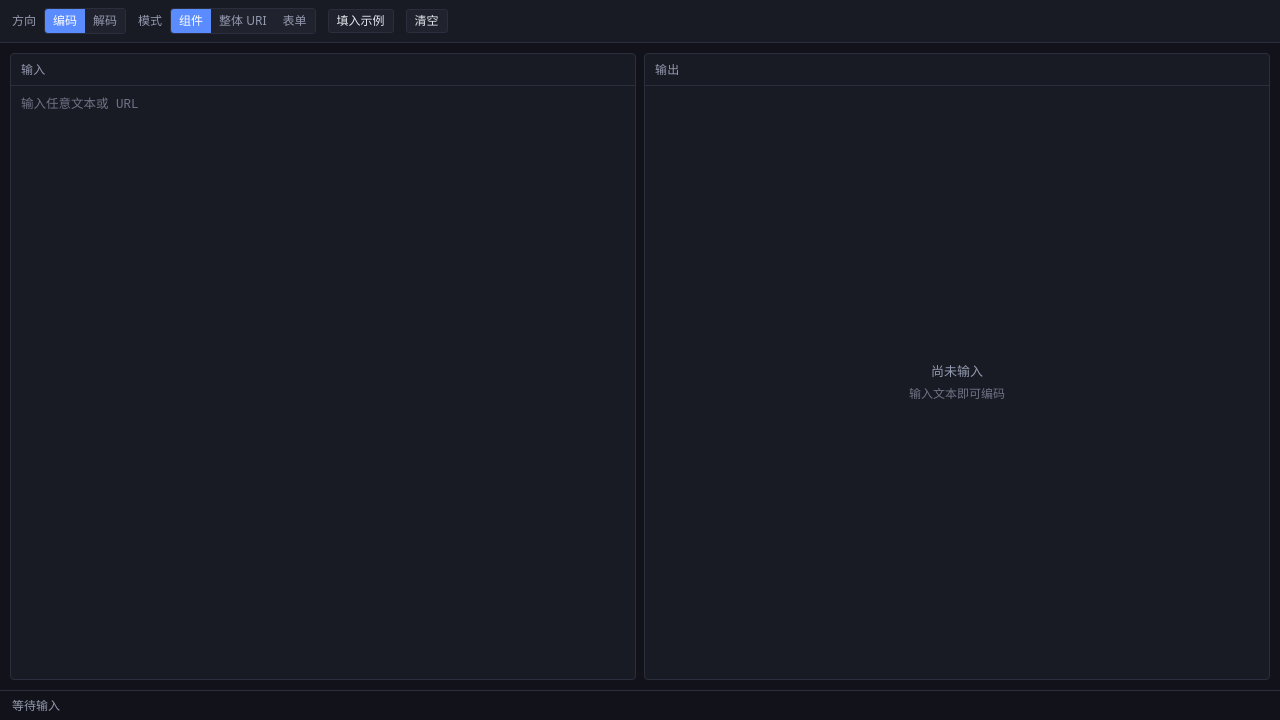
Test: URL 编码/解码工具 › 状态栏标出方向与模式
Type "a b" into the text box named "待处理的文本" at {"x": 323, "y": 190}, box x1=11 y1=86 x2=635 y2=294
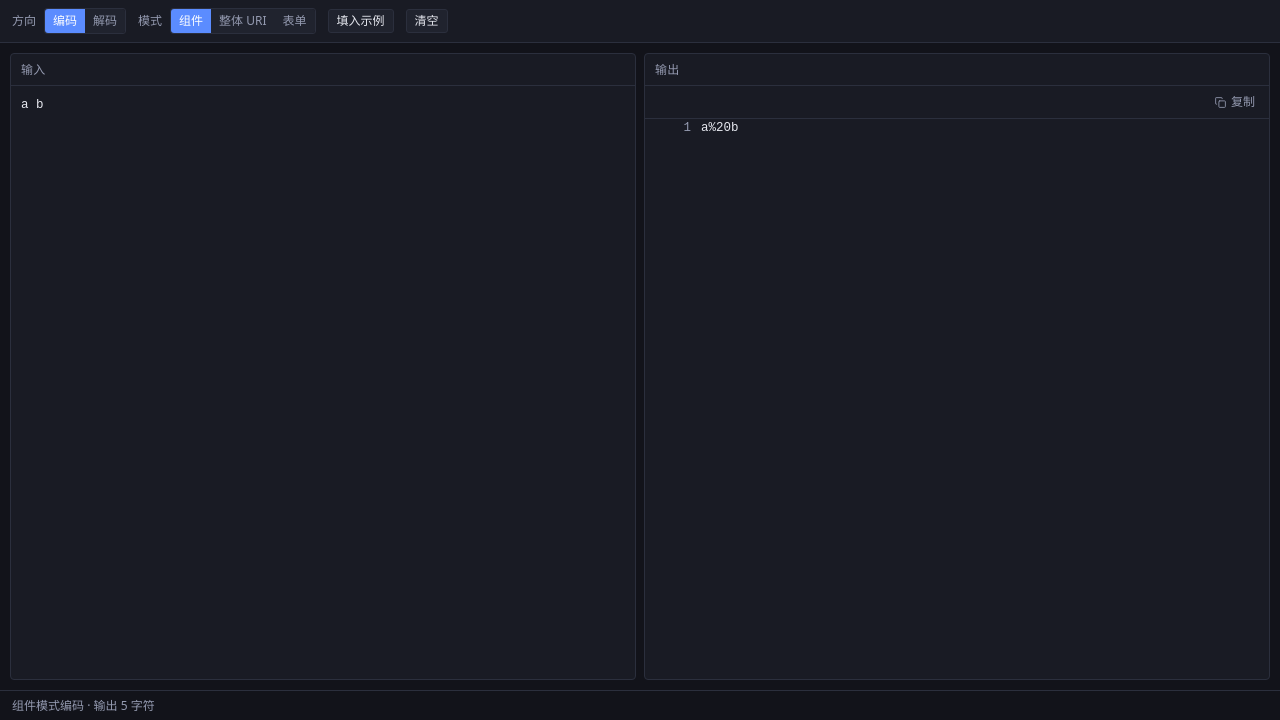
Now the text "组件模式编码 · 输出 5 字符" is shown, box x1=12 y1=697 x2=155 y2=714
Click the button "表单" at {"x": 294, "y": 21}, box x1=274 y1=9 x2=314 y2=33
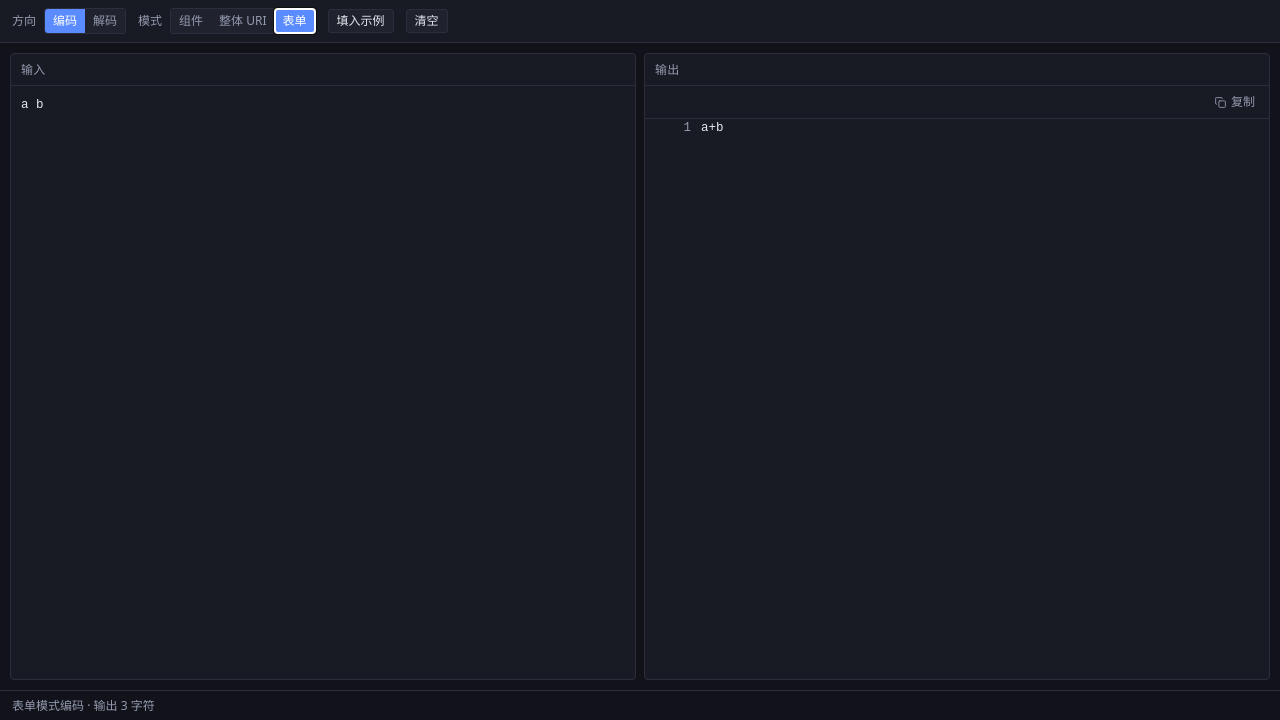
Now the text "表单模式编码 · 输出 3 字符" is shown, box x1=12 y1=697 x2=155 y2=714
